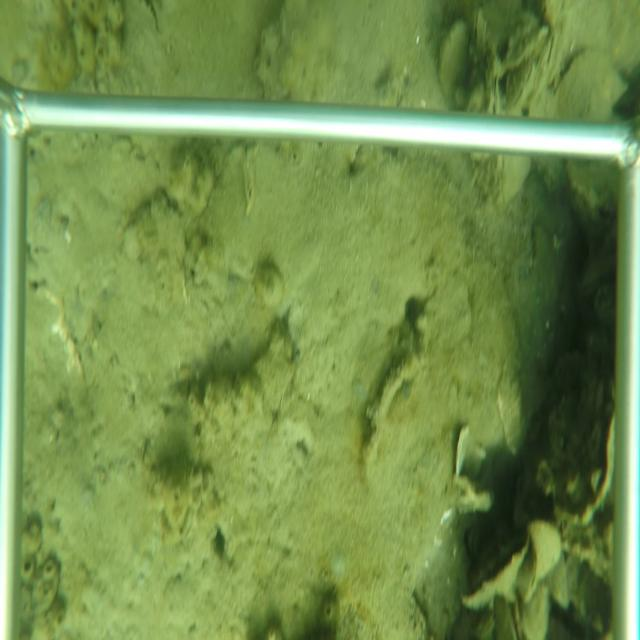Oyster-Closed: (503, 62, 537, 116), (518, 551, 539, 606), (471, 6, 486, 52)
Oyster-Indeterminate: (458, 528, 533, 606), (552, 43, 631, 116), (436, 19, 470, 109), (529, 519, 563, 583)
